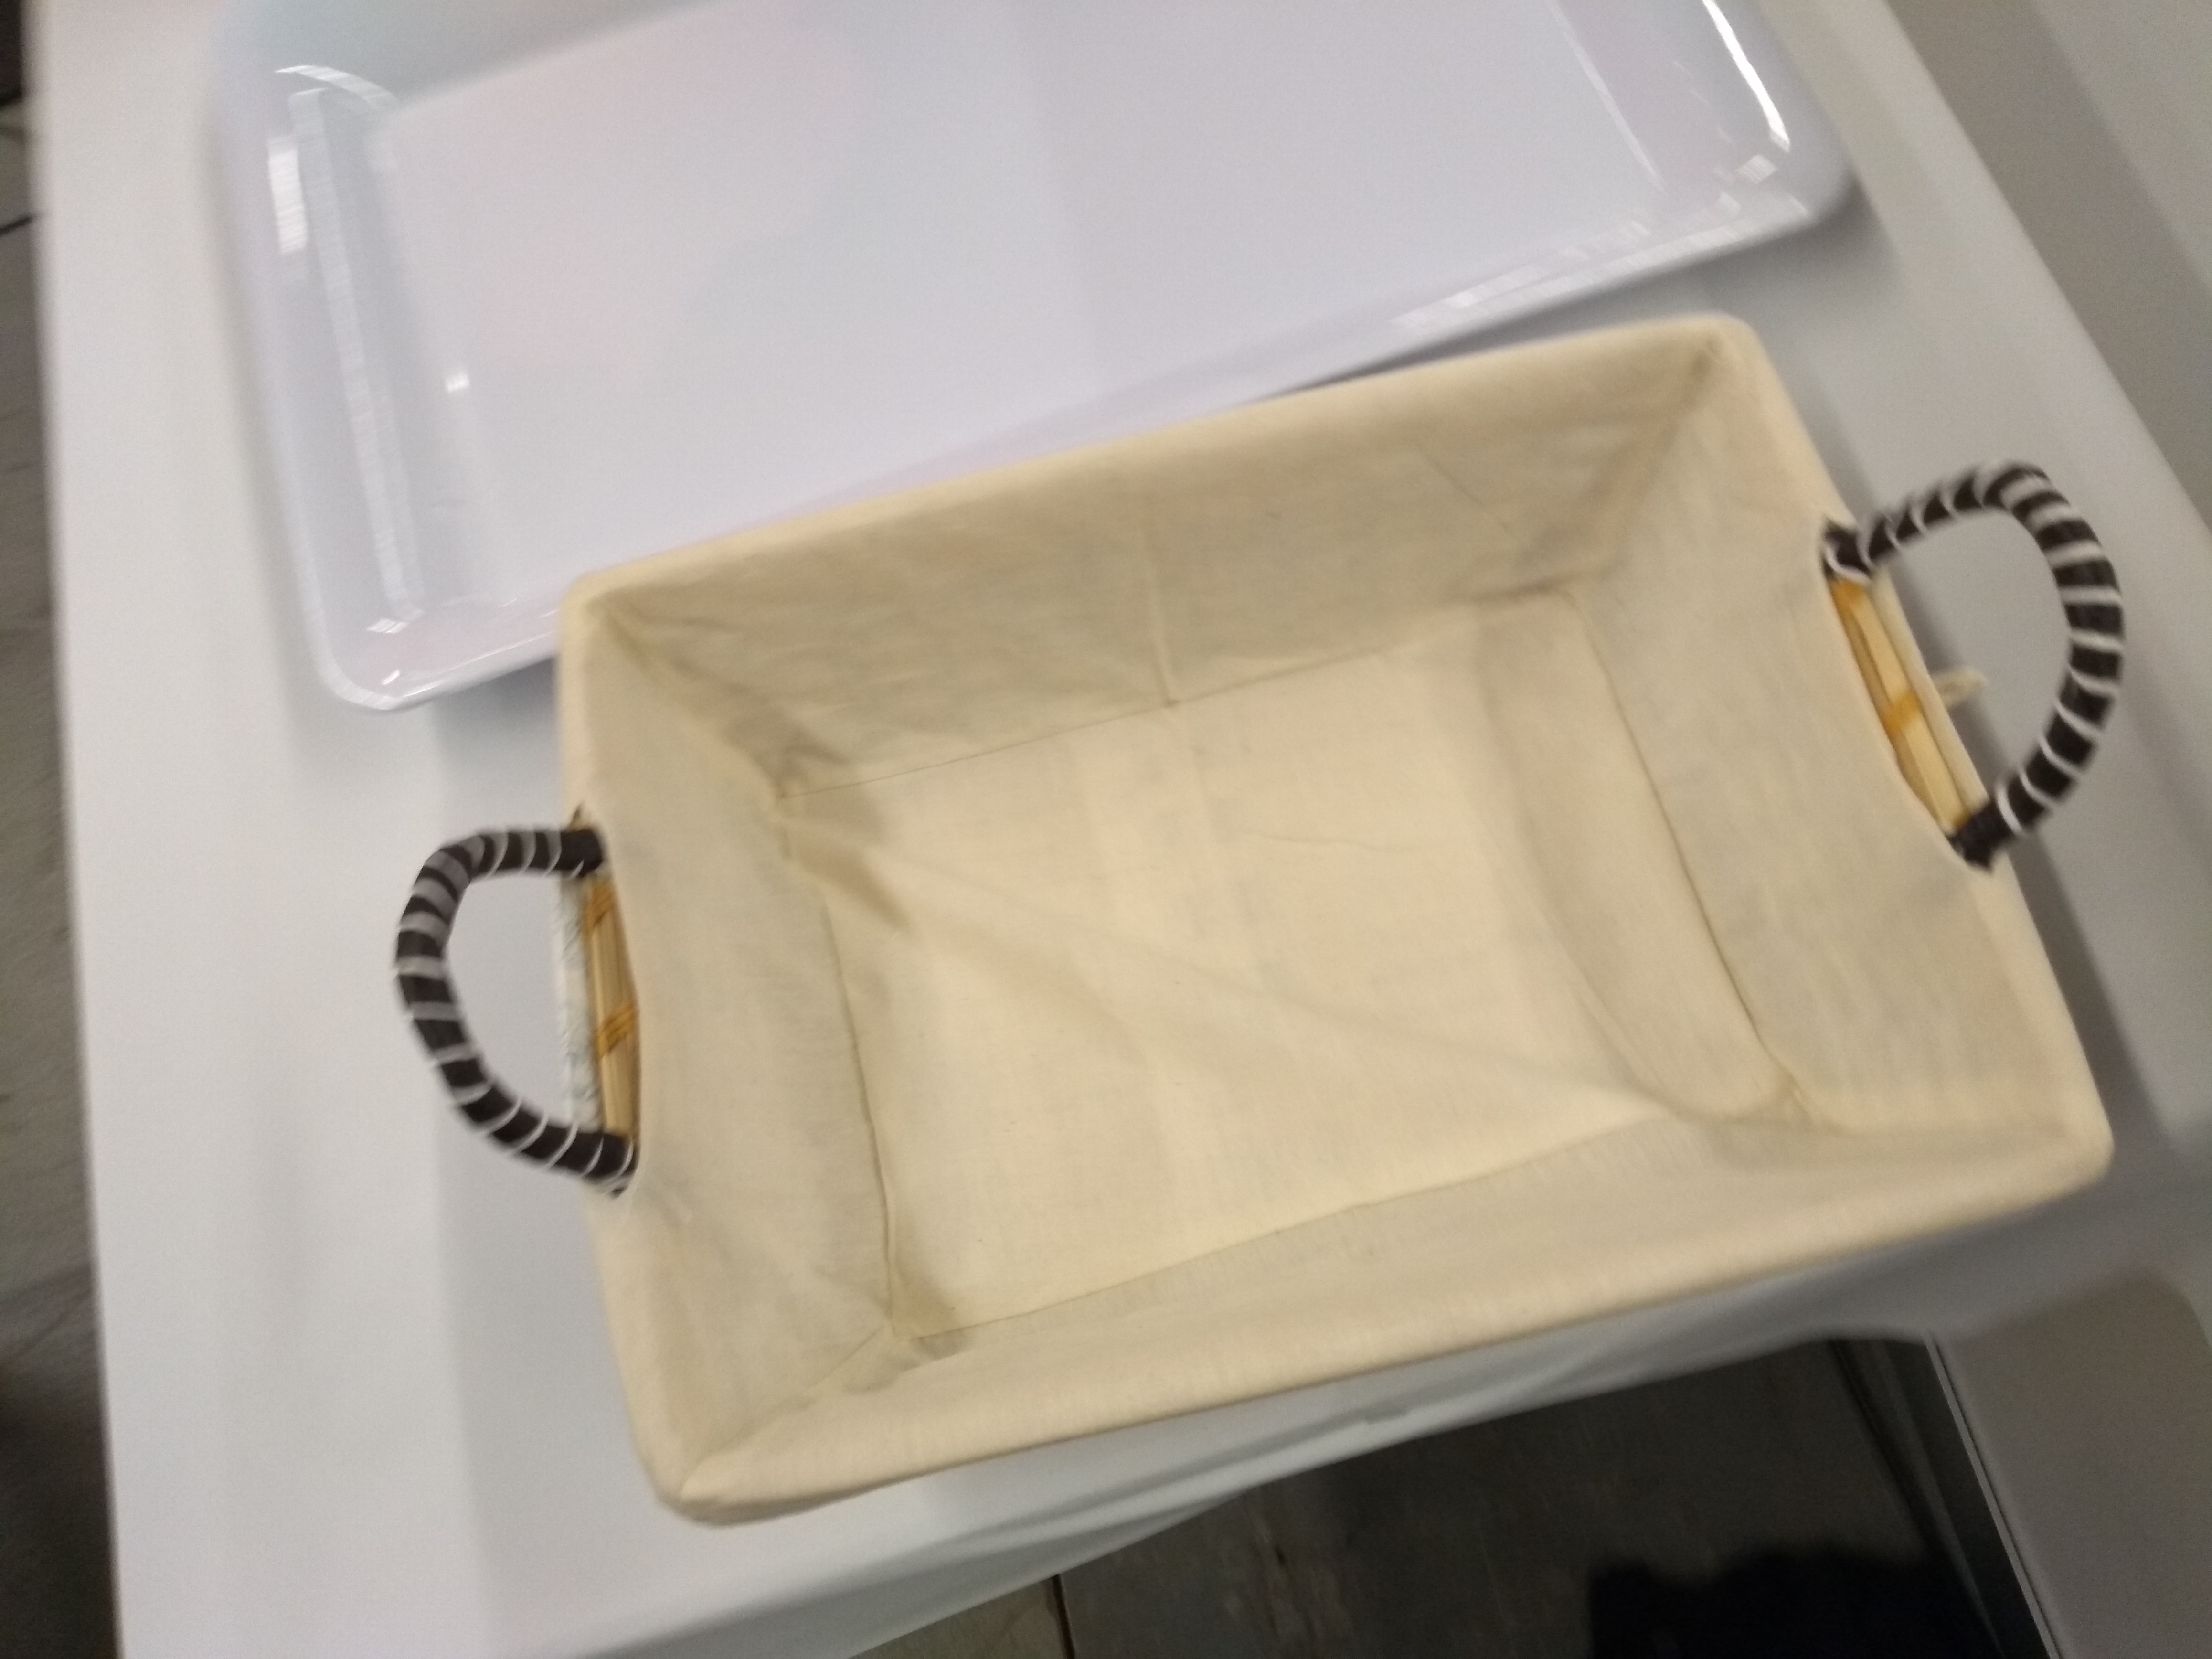basket: (408, 321, 2165, 1547)
tray: (200, 0, 1858, 701)
